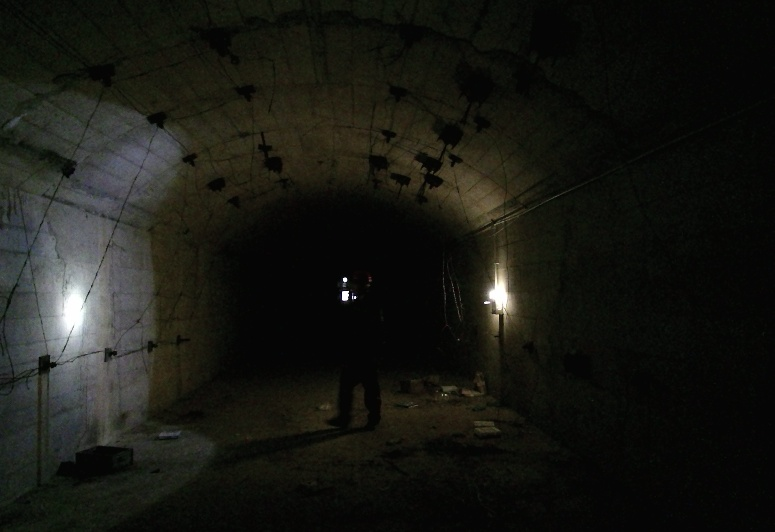person: (342, 270, 405, 428)
